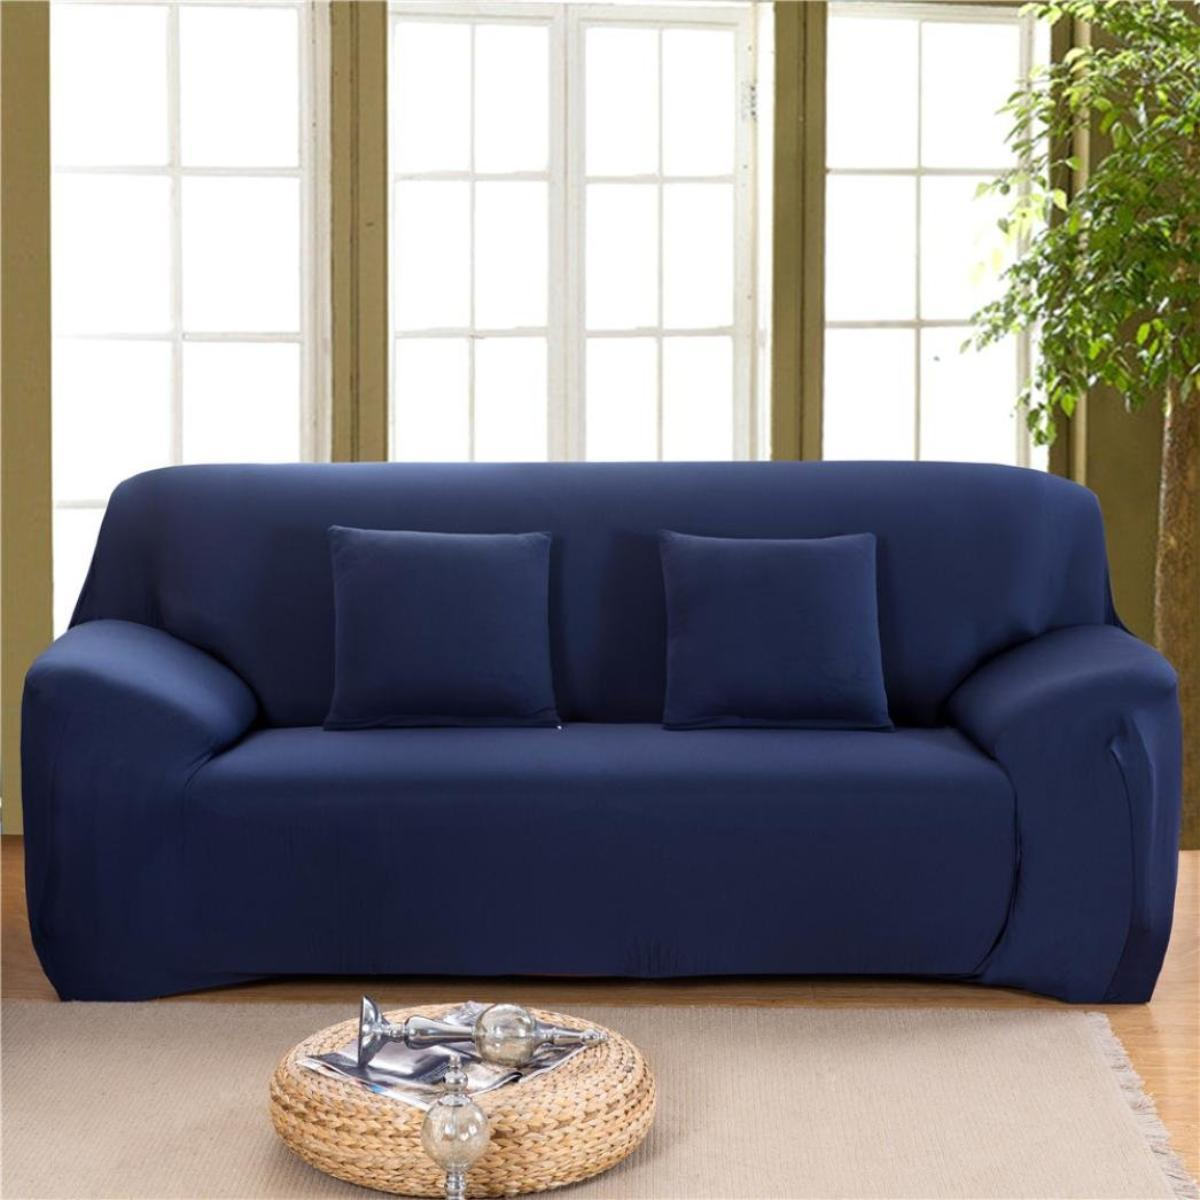Sofa: (20, 461, 1180, 1004)
